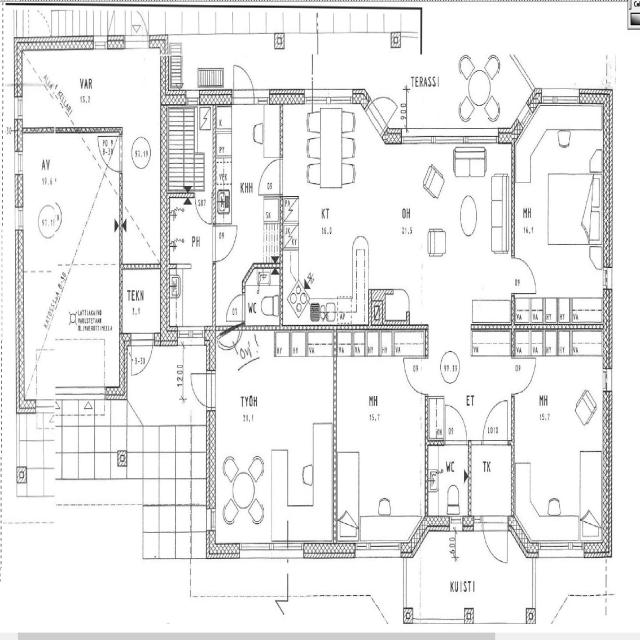door: (480, 513, 510, 567), (479, 395, 511, 443), (510, 251, 540, 295), (442, 400, 470, 444), (128, 333, 154, 379), (187, 366, 214, 410), (256, 154, 284, 196), (212, 221, 240, 263), (124, 6, 150, 49), (511, 354, 537, 395), (231, 60, 256, 102), (402, 354, 427, 394), (102, 132, 124, 173), (224, 290, 245, 325), (193, 189, 213, 225), (586, 238, 606, 272)
window: (355, 535, 406, 564), (538, 82, 582, 111), (537, 538, 585, 564), (255, 540, 307, 562), (236, 538, 277, 562), (509, 518, 528, 557), (177, 324, 206, 346), (324, 88, 354, 107), (22, 122, 58, 137), (251, 84, 271, 106), (603, 364, 614, 394), (604, 263, 615, 293), (13, 93, 24, 121), (13, 148, 24, 176), (13, 204, 23, 232)
zone: (216, 328, 336, 550), (512, 329, 605, 552), (336, 332, 426, 538), (282, 106, 363, 322), (516, 106, 604, 277), (214, 102, 282, 256), (508, 242, 609, 326), (167, 193, 215, 335), (164, 100, 212, 194), (467, 440, 514, 522), (426, 441, 470, 523), (120, 267, 163, 337), (243, 268, 282, 328), (512, 289, 552, 328)
